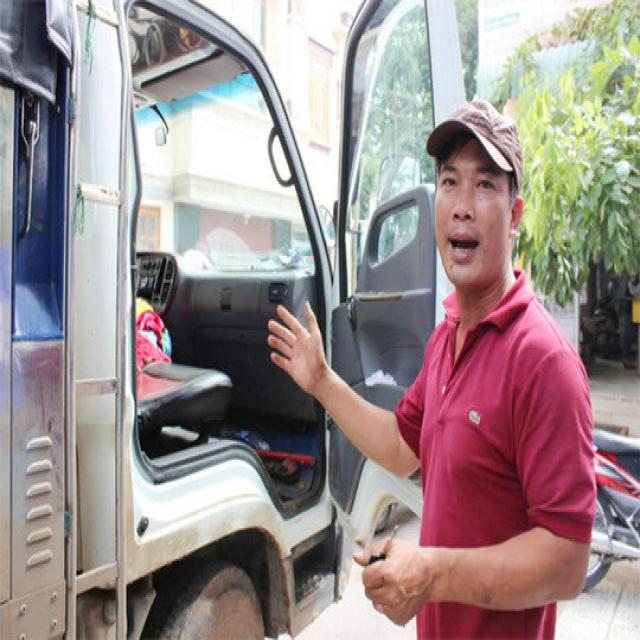Cap: (427, 100, 523, 194)
